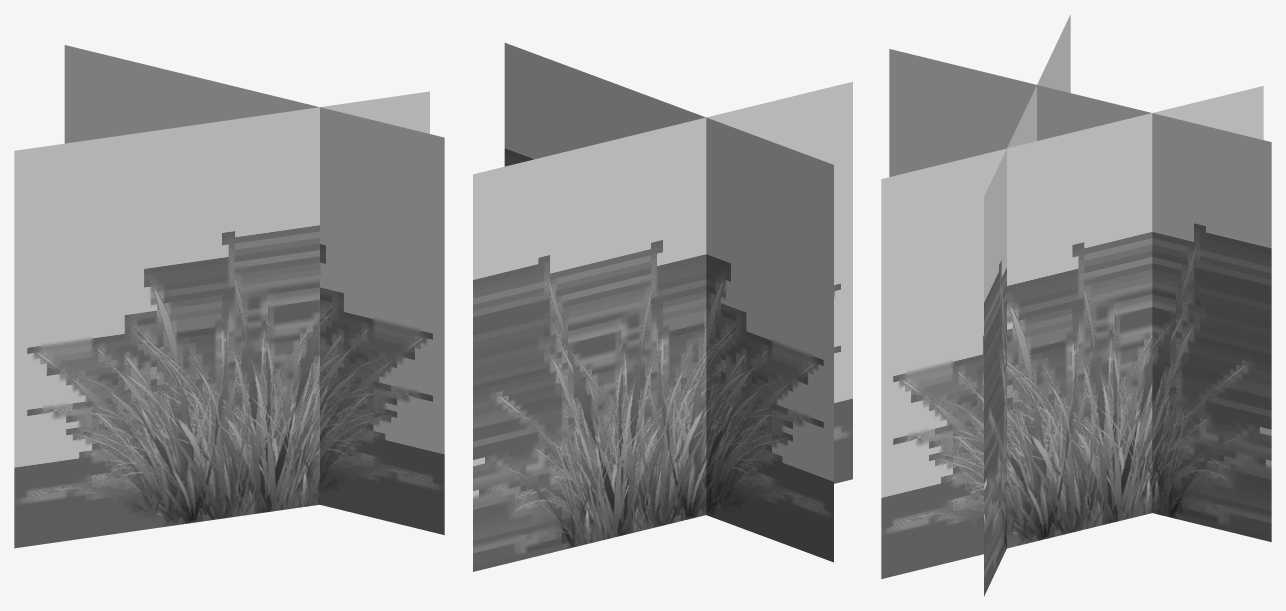
Rendered from grass.glb.
3 views of the same model, side by side, from view 1: azimuth 30°, elevation 25°; view 2: azimuth 150°, elevation 25°; view 3: azimuth 270°, elevation 25° (orthographic).
Parts seen in each view (by area): view 1: Grass; view 2: Grass; view 3: Grass.
Boxes of the visible parts, left/top/right/bottom form: Grass: left=14, top=45, right=444, bottom=548; Grass: left=473, top=43, right=852, bottom=571; Grass: left=881, top=14, right=1271, bottom=596.
Bounding box in the file's own units: 1.96 × 2 × 1.77.
Materials: 1 (1 with a texture image).
